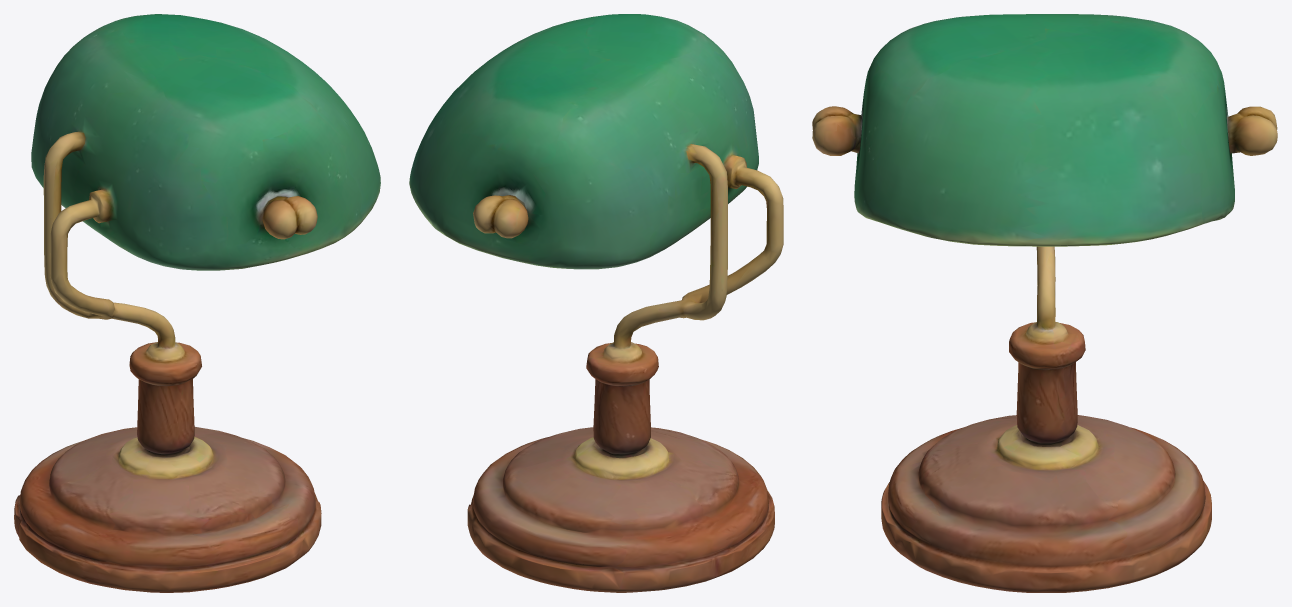
Rendered from deco_lamp.glb.
The picture shows the model from 3 angles, left to right: view 1: azimuth 30°, elevation 25°; view 2: azimuth 150°, elevation 25°; view 3: azimuth 270°, elevation 25°; orthographic projection. The views are drawn at different scales.
Parts seen in each view (by area): view 1: tripo_node_ca9d510b-6f5c-467a-9461-bcb2222bdd73; view 2: tripo_node_ca9d510b-6f5c-467a-9461-bcb2222bdd73; view 3: tripo_node_ca9d510b-6f5c-467a-9461-bcb2222bdd73.
Part boxes in pixels (left/top/right/bottom): tripo_node_ca9d510b-6f5c-467a-9461-bcb2222bdd73: left=14, top=14, right=380, bottom=592; tripo_node_ca9d510b-6f5c-467a-9461-bcb2222bdd73: left=409, top=14, right=783, bottom=592; tripo_node_ca9d510b-6f5c-467a-9461-bcb2222bdd73: left=812, top=14, right=1277, bottom=592.
Size of the model in its own units: 0.706 by 1 by 0.8337.
1 material, 1 textured.
